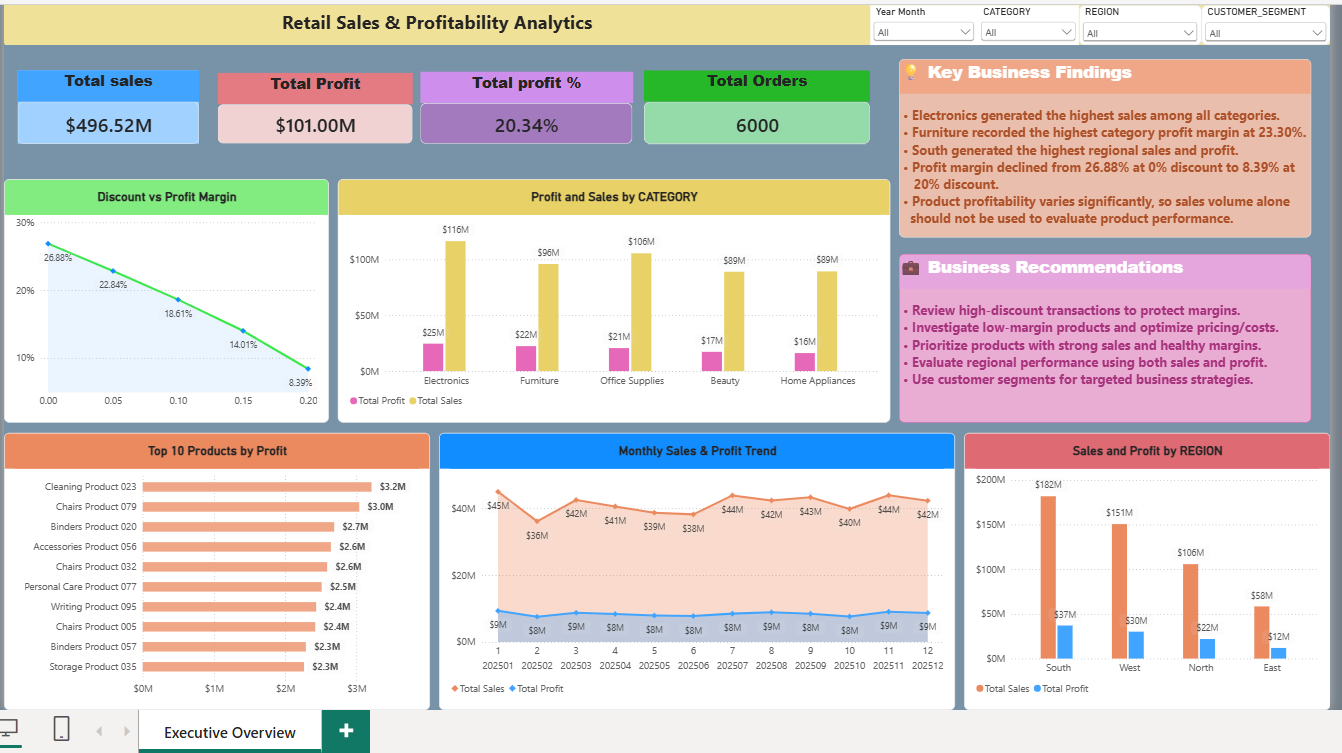

Layout of this report page (visuals, bound fields, positions):
{"tool":"powerbi","page":{"name":"Page 1","canvas":[1920,1080],"ordinal":0},"visuals":[{"type":"shape","box":[0,0,1920.1,117.6],"z":0},{"type":"cardVisual","fields":{"Data":["DIM_CUSTOMER.Total Orders"]},"box":[903,119.4,273.3,106.8],"z":1},{"type":"cardVisual","fields":{"Data":["DIM_CUSTOMER.Total Sales"]},"box":[0,117.6,257,106.8],"z":2},{"type":"cardVisual","fields":{"Data":["DIM_CUSTOMER.Total Profit"]},"box":[305.8,117.6,231.6,105],"z":3},{"type":"cardVisual","fields":{"Data":["DIM_CUSTOMER.Profit Margin %"]},"box":[599,117.6,271.4,106.8],"z":4},{"type":"lineChart","title":"Monthly Sales & Profit Trend","fields":{"Category":["DimDate.Year Month Sort","DimDate.Month Number"],"Y":["DIM_CUSTOMER.Total Sales","DIM_CUSTOMER.Total Profit"]},"box":[0,304,792.6,399.9],"z":5},{"type":"clusteredColumnChart","title":" Profit and  Sales by CATEGORY","fields":{"Category":["DIM_PRODUCT.CATEGORY"],"Y":["DIM_CUSTOMER.Total Profit","DIM_CUSTOMER.Total Sales"]},"box":[792.6,305.8,490.4,398.1],"z":6},{"type":"clusteredColumnChart","title":" Sales & Profit by Region","fields":{"Category":["DIM_CUSTOMER.REGION_CLEAN"],"Y":["DIM_CUSTOMER.Total Sales","DIM_CUSTOMER.Total Profit"]},"box":[1283,302.2,637,401.7],"z":7},{"type":"clusteredBarChart","title":"Top 10 Products by Profit","fields":{"Category":["DIM_PRODUCT.PRODUCT_NAME"],"Y":["DIM_CUSTOMER.Total Profit"]},"box":[0,704,611.7,376.4],"z":8},{"type":"lineChart","title":"Discount vs Profit Margin","fields":{"Category":["FACT_SALES.DISCOUNT"],"Y":["DIM_CUSTOMER.Profit Margin %"]},"box":[611.7,704,515.8,376.4],"z":9},{"type":"slicer","fields":{"Values":["DimDate.Year Month"]},"box":[1254.1,117.6,155.6,90.5],"z":10},{"type":"slicer","fields":{"Values":["DIM_CUSTOMER.CUSTOMER_SEGMENT"]},"box":[1733.7,117.6,186.4,92.3],"z":11},{"type":"slicer","fields":{"Values":["DIM_PRODUCT.CATEGORY"]},"box":[1409.7,117.6,146.6,90.5],"z":12},{"type":"slicer","fields":{"Values":["DIM_CUSTOMER.REGION_CLEAN"]},"box":[1556.3,117.6,177.3,92.3],"z":13}]}

Visuals, with their boxes on the page's 1920x1080 design canvas (x1, y1, x2, y2). These are canvas units, not pixel positions in the 1342x753 screenshot, which may show the page scaled, cropped or inside an application window:
shape: rect(0, 0, 1920, 118)
cardVisual - DIM_CUSTOMER.Total Orders: rect(903, 119, 1176, 226)
cardVisual - DIM_CUSTOMER.Total Sales: rect(0, 118, 257, 224)
cardVisual - DIM_CUSTOMER.Total Profit: rect(306, 118, 537, 223)
cardVisual - DIM_CUSTOMER.Profit Margin %: rect(599, 118, 870, 224)
"Monthly Sales & Profit Trend" lineChart: rect(0, 304, 793, 704)
" Profit and  Sales by CATEGORY" clusteredColumnChart: rect(793, 306, 1283, 704)
" Sales & Profit by Region" clusteredColumnChart: rect(1283, 302, 1920, 704)
"Top 10 Products by Profit" clusteredBarChart: rect(0, 704, 612, 1080)
"Discount vs Profit Margin" lineChart: rect(612, 704, 1128, 1080)
slicer - DimDate.Year Month: rect(1254, 118, 1410, 208)
slicer - DIM_CUSTOMER.CUSTOMER_SEGMENT: rect(1734, 118, 1920, 210)
slicer - DIM_PRODUCT.CATEGORY: rect(1410, 118, 1556, 208)
slicer - DIM_CUSTOMER.REGION_CLEAN: rect(1556, 118, 1734, 210)
